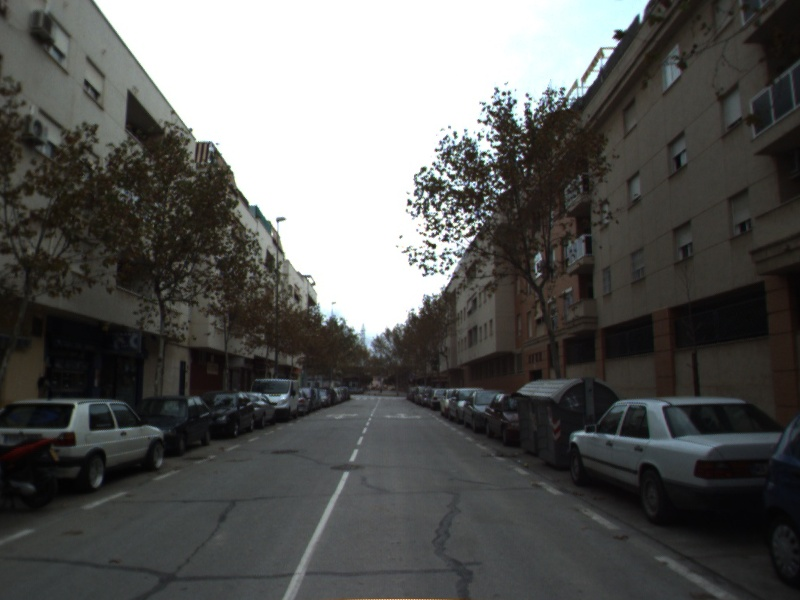STRAIGHT_LEFT_RIGHT: (381, 410, 425, 421)
